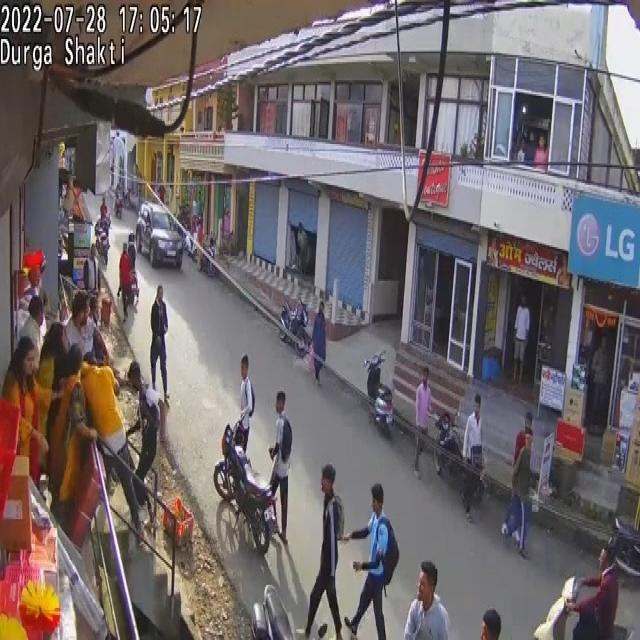fight: (3, 202, 168, 552), (74, 347, 147, 546), (49, 344, 100, 524), (0, 340, 50, 489), (61, 293, 107, 377)
non-fight: (343, 482, 398, 639), (300, 464, 344, 640), (128, 361, 166, 518), (564, 544, 620, 639), (502, 423, 532, 555), (267, 394, 292, 541), (460, 394, 484, 519), (402, 592, 450, 640), (413, 366, 433, 477), (150, 282, 169, 397), (236, 353, 254, 456), (512, 294, 530, 383), (311, 302, 326, 384), (118, 245, 133, 314), (183, 193, 204, 233)
